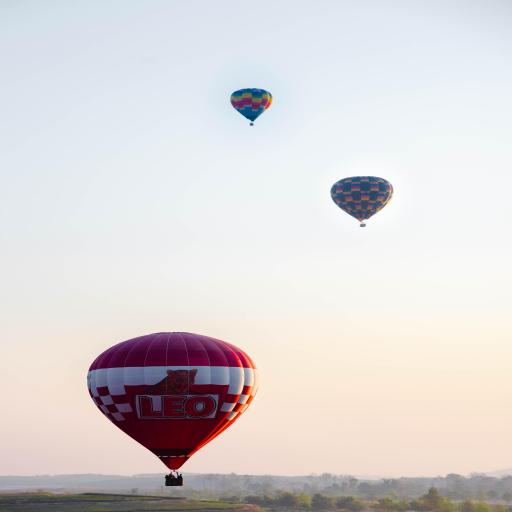hot air ballon: (85, 332, 260, 486), (330, 176, 394, 227), (230, 88, 273, 126)
